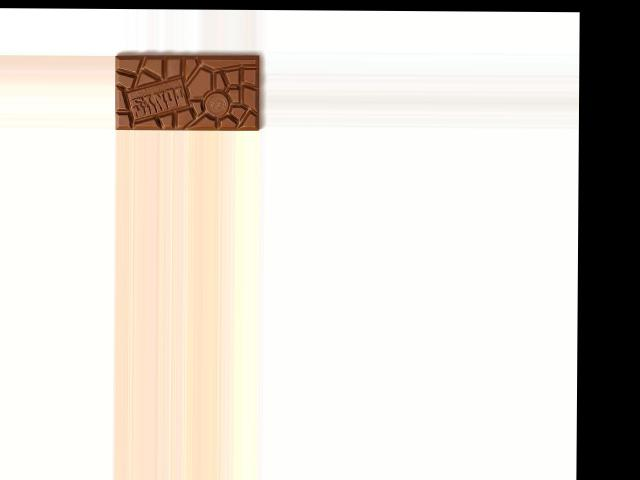chocolate: (113, 50, 261, 130)
